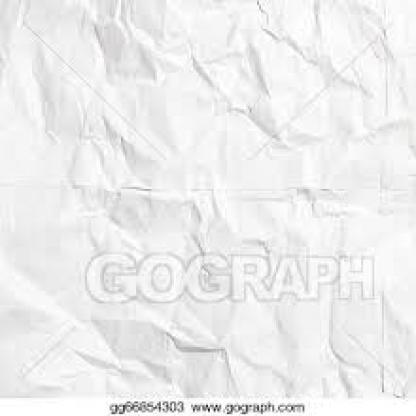paper: (0, 0, 414, 394)
